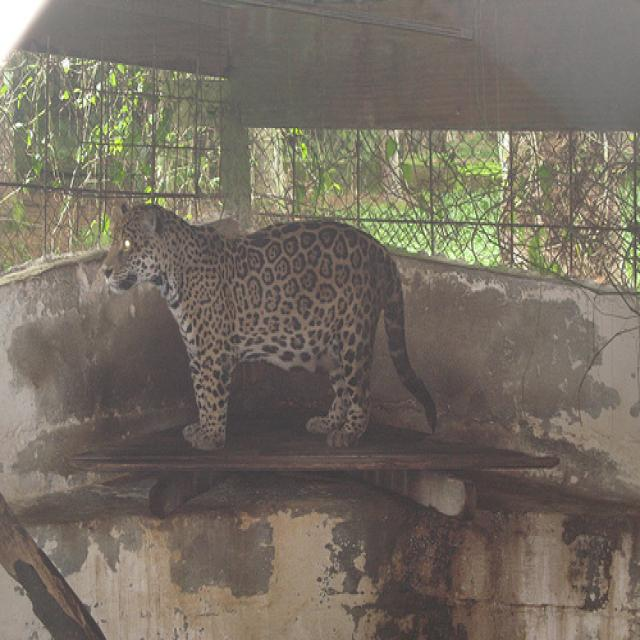Leopard: (96, 202, 440, 450)
